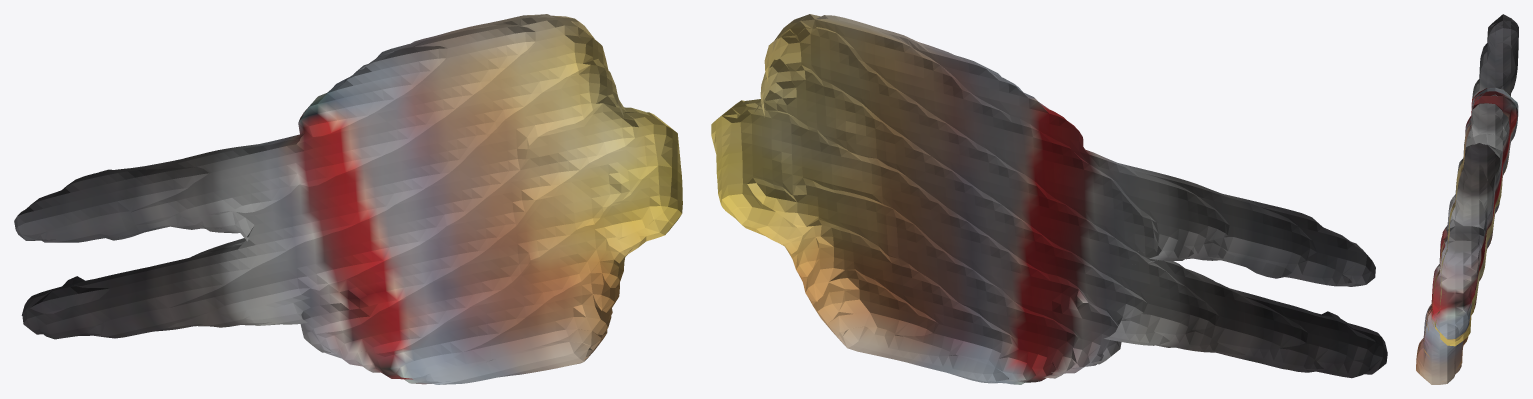
3 views of the same model, side by side, from view 1: azimuth 30°, elevation 25°; view 2: azimuth 150°, elevation 25°; view 3: azimuth 270°, elevation 25° (orthographic). The views are drawn at different scales.
Visible parts, largest first — view 1: world; view 2: world; view 3: world.
Part boxes in pixels (bbox=[...]): world: bbox=[14, 14, 682, 384]; world: bbox=[711, 14, 1387, 384]; world: bbox=[1416, 14, 1518, 384].
Bounding box in the file's own units: 0.9465 × 0.4642 × 0.177.
